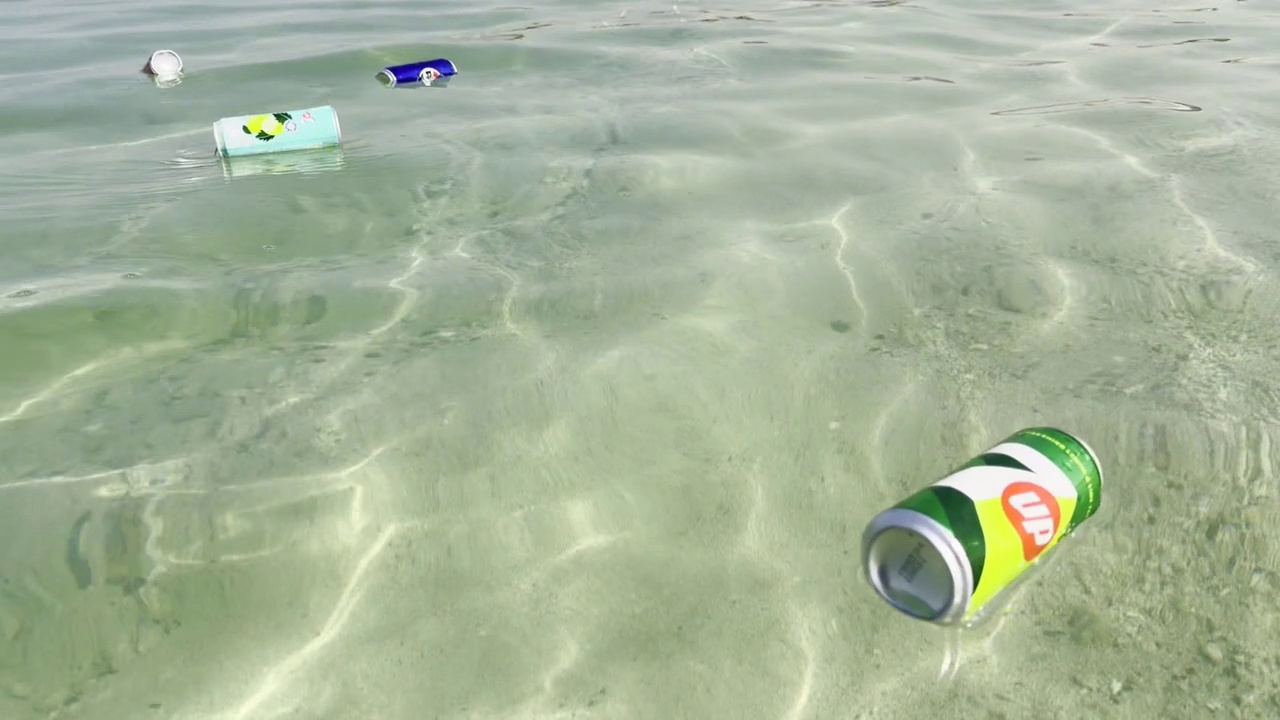debris: (850, 419, 1119, 631), (203, 99, 354, 166), (373, 50, 461, 95), (137, 44, 191, 84)
